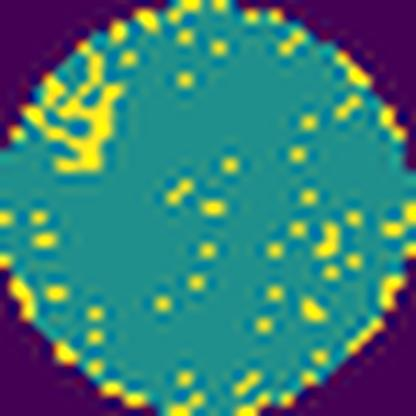Loc: (34, 47, 125, 174)
